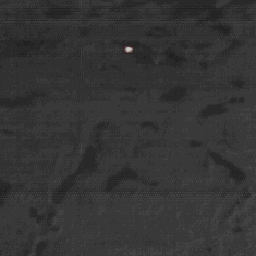Target: (124, 45, 132, 52)
